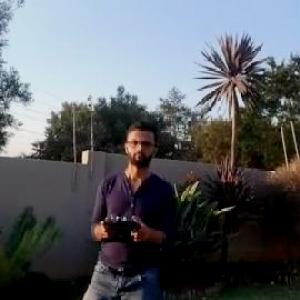follow: (74, 113, 179, 299)
